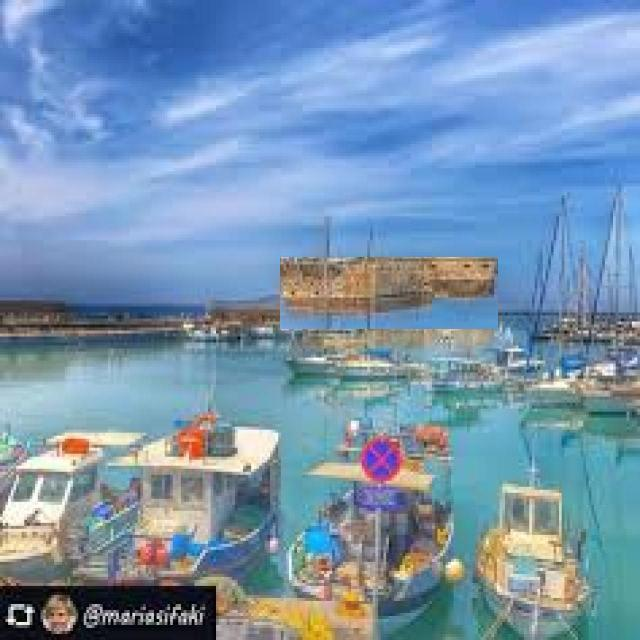Kules: (281, 258, 499, 330)
